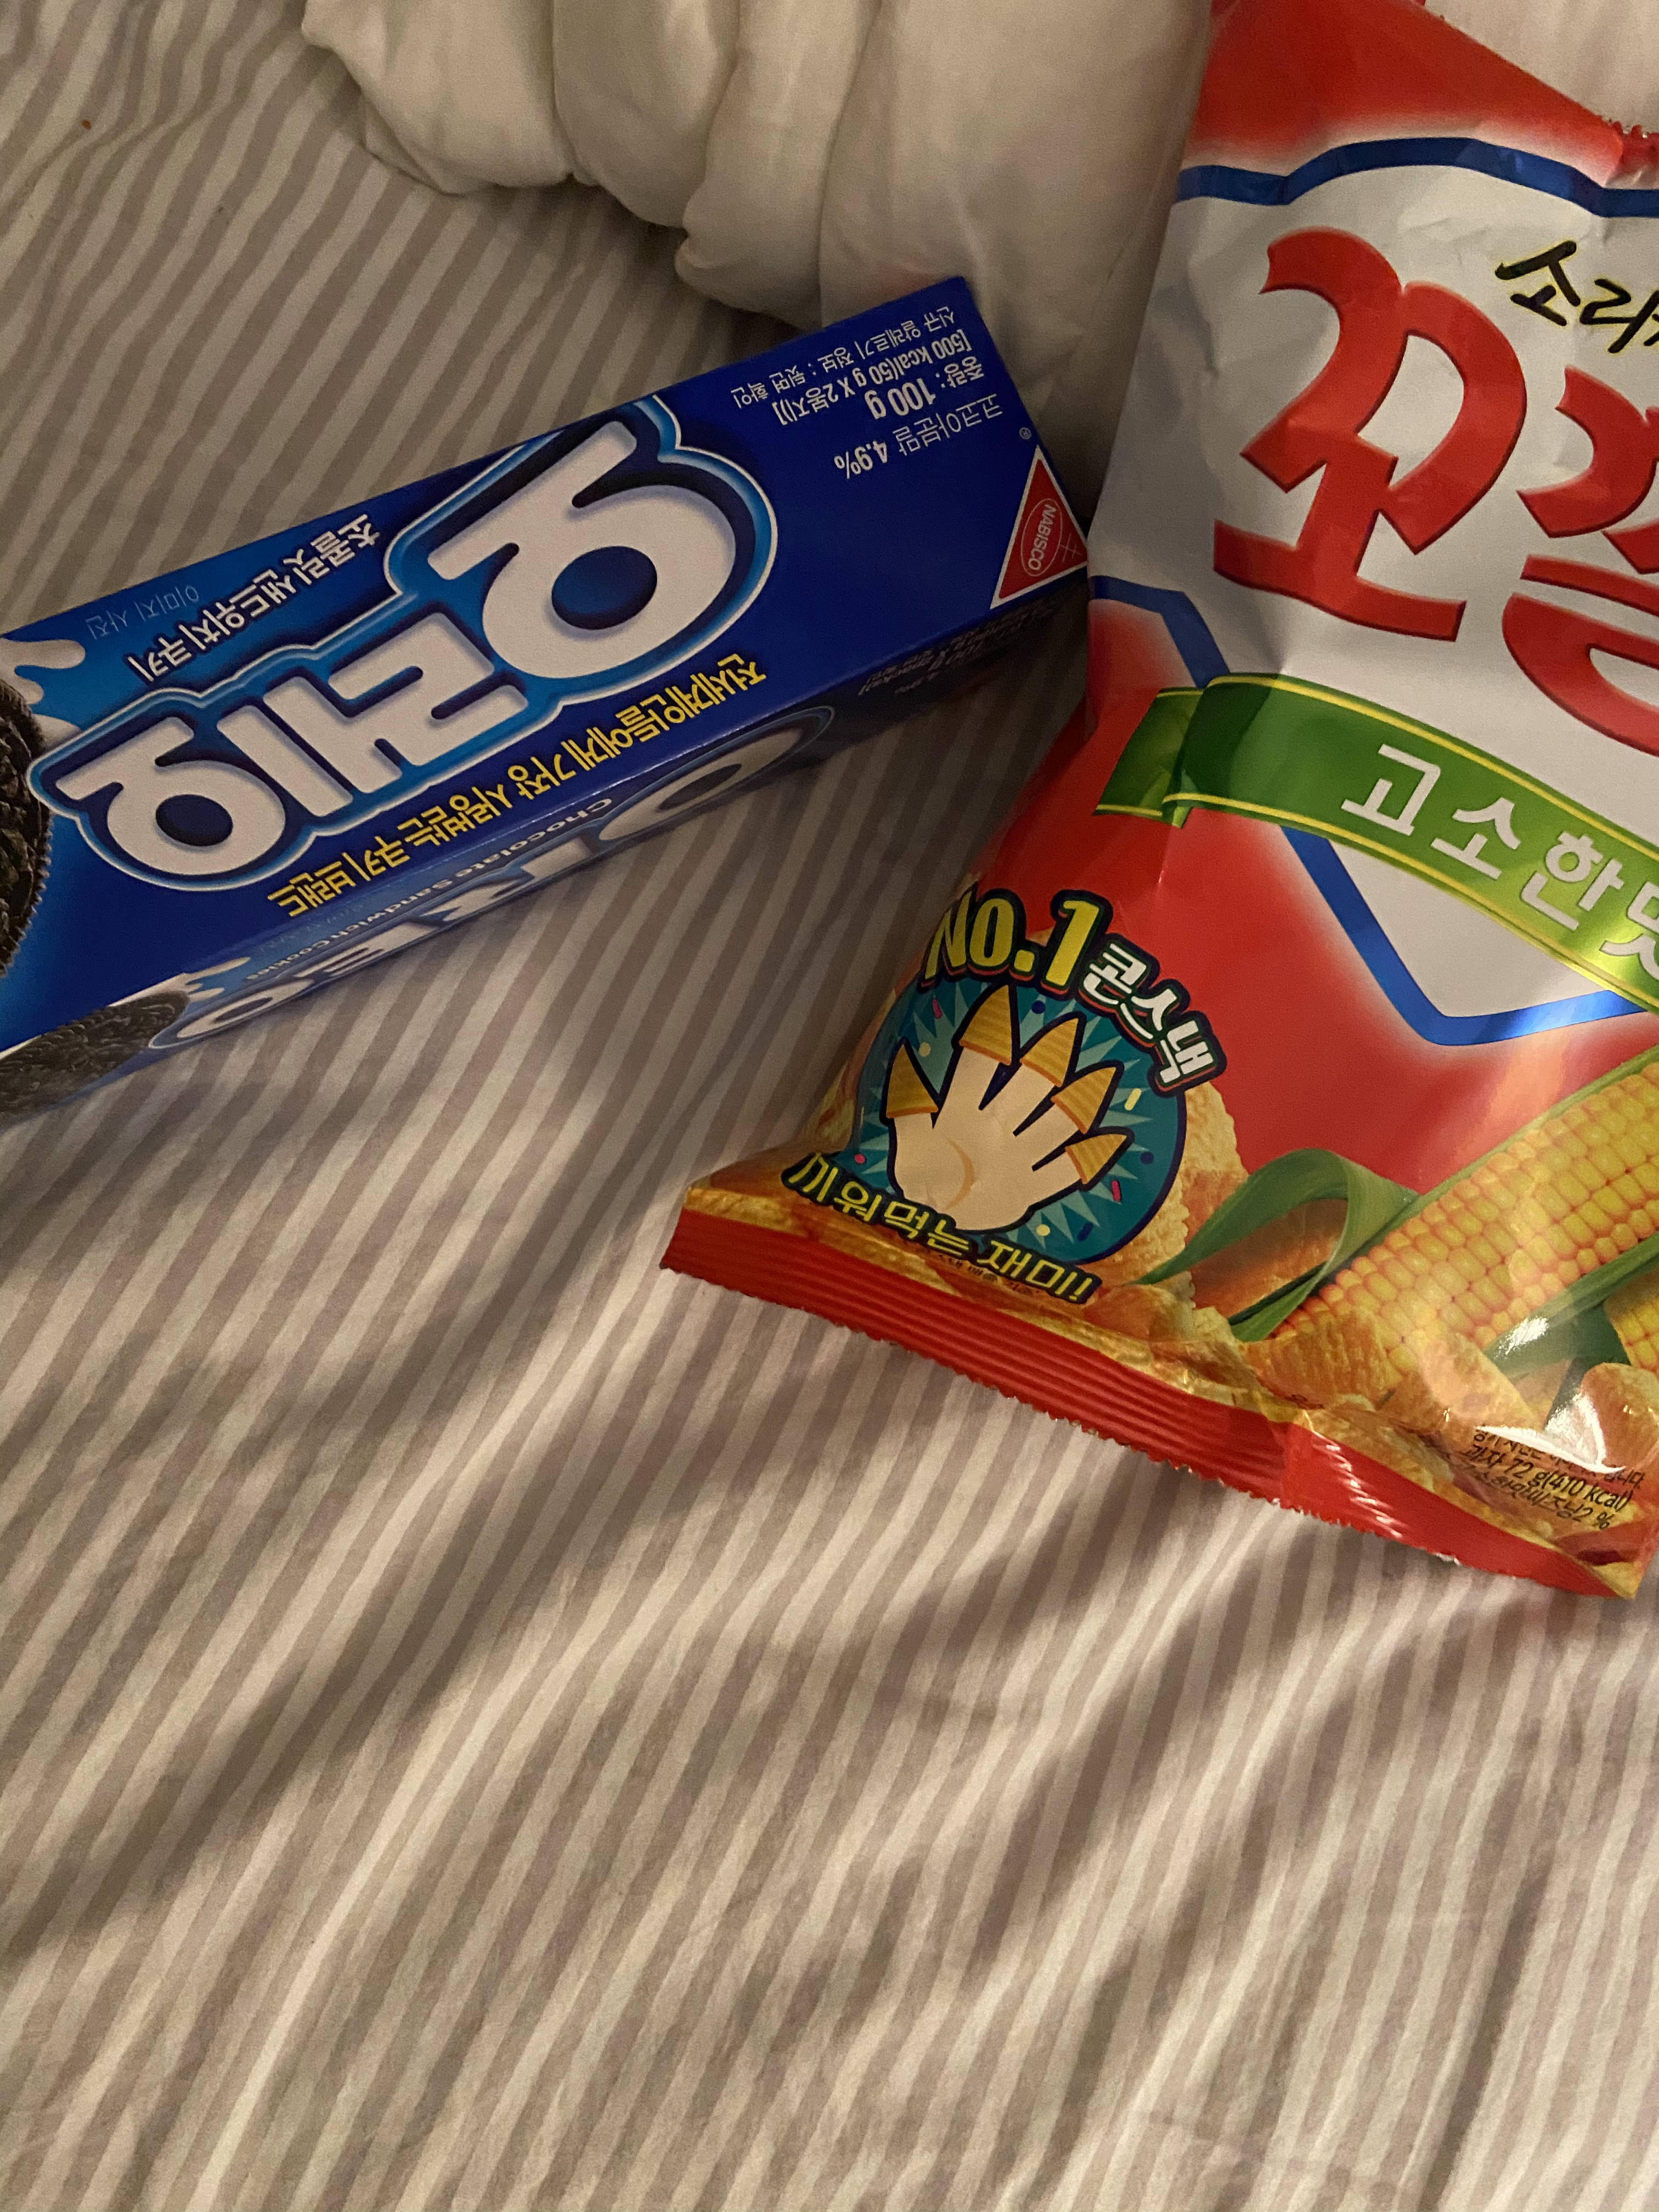ggoggalcon: (641, 0, 1654, 1625)
oreo: (0, 256, 1124, 1170)
